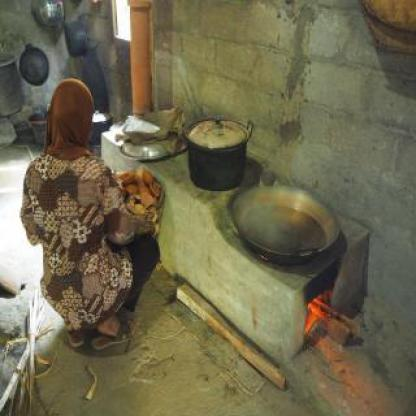fire: (304, 290, 324, 330)
